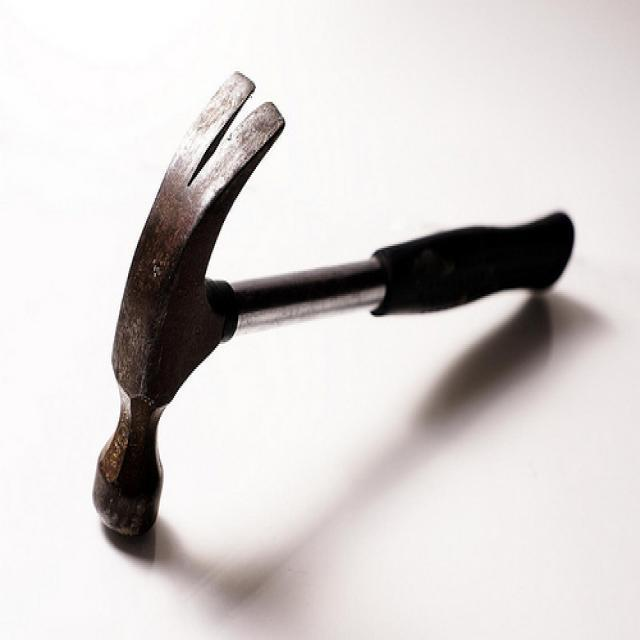hammer: (82, 55, 581, 568)
